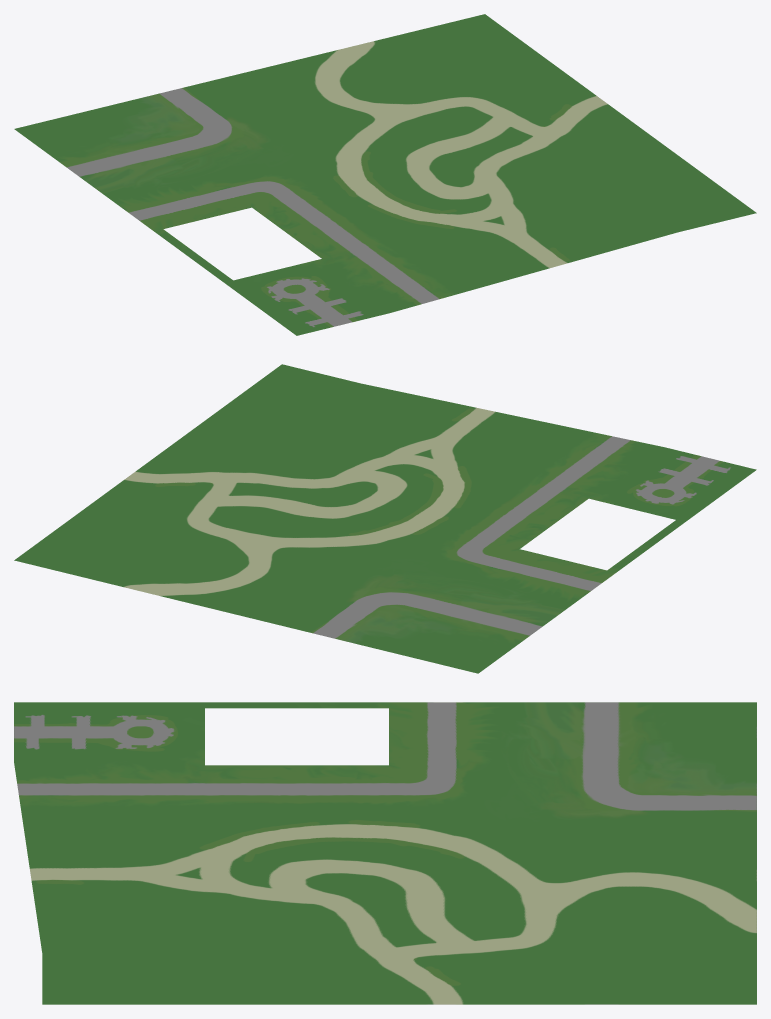
The model's file is ground.gltf.
3 views of the same model, one above another, from view 1: azimuth 30°, elevation 25°; view 2: azimuth 150°, elevation 25°; view 3: azimuth 270°, elevation 25° (orthographic). The views are drawn at different scales.
Parts seen in each view (by area): view 1: Plane; view 2: Plane; view 3: Plane.
Part boxes in pixels (x1,y1,x2,y2): Plane: [14, 14, 756, 335]; Plane: [14, 364, 756, 673]; Plane: [14, 702, 756, 1004].
Bounding box in the file's own units: 500 × 0 × 520.
Materials: 1 (1 with a texture image).
